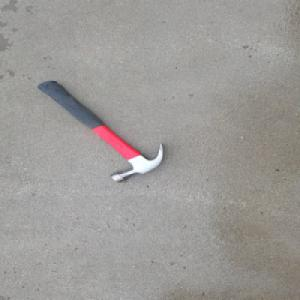Hammer: (36, 79, 167, 183)
